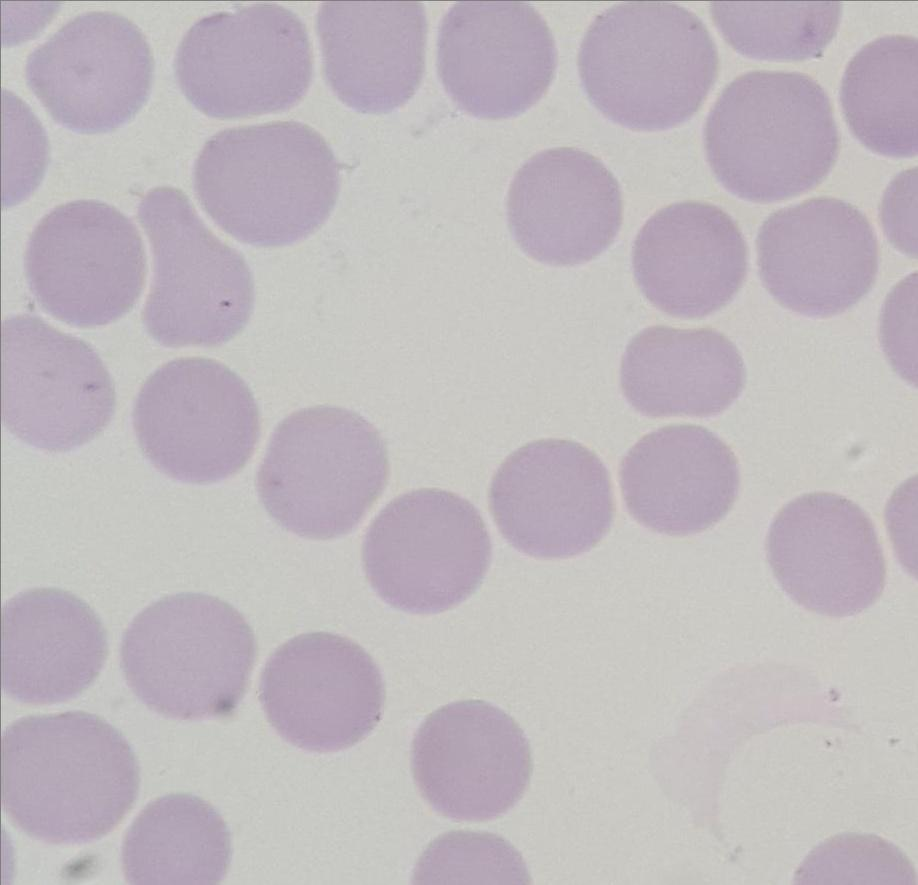Uninfected: (136, 185, 253, 349), (1, 711, 136, 842), (195, 123, 338, 246), (119, 593, 256, 721), (579, 6, 717, 131), (260, 406, 391, 535), (706, 72, 835, 201), (132, 358, 262, 485), (258, 631, 387, 753), (26, 198, 147, 328), (361, 490, 488, 613), (178, 6, 315, 120), (3, 315, 117, 452), (489, 438, 616, 559), (29, 12, 154, 131), (630, 199, 753, 317), (410, 700, 531, 819), (767, 493, 883, 617), (756, 197, 876, 316), (506, 146, 624, 263), (620, 424, 741, 537), (437, 3, 556, 117), (2, 586, 107, 705), (317, 3, 426, 113), (621, 324, 744, 418)
